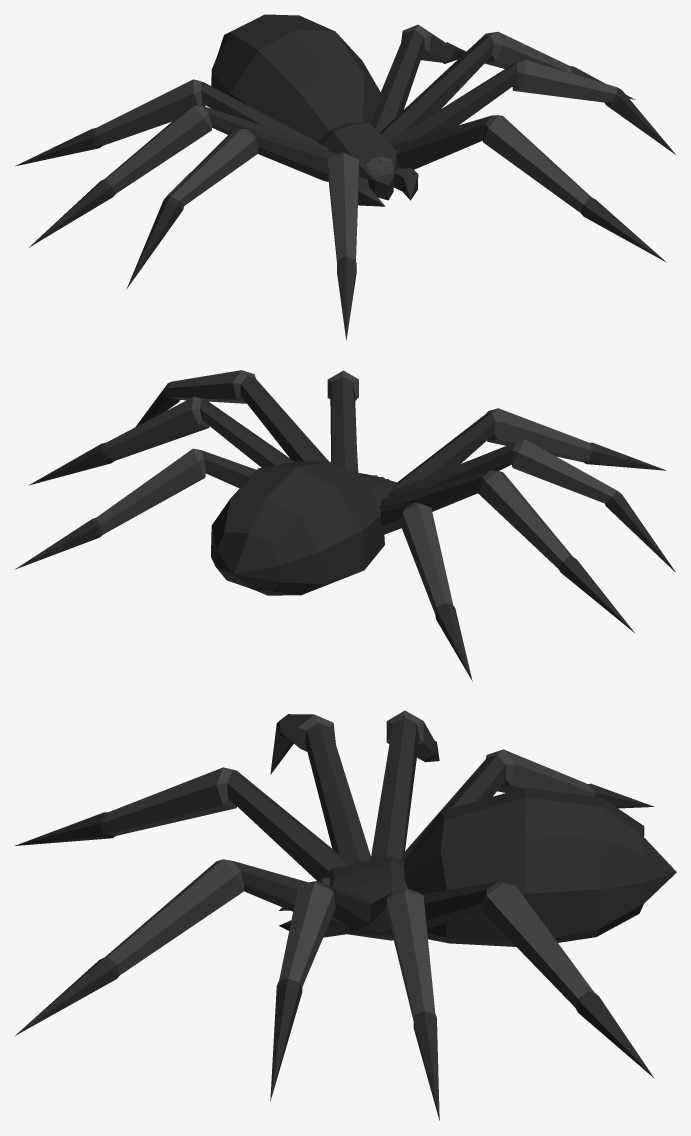
File: spider.glb
3 renders of one model, top to bottom at view 1: azimuth 30°, elevation 25°; view 2: azimuth 150°, elevation 25°; view 3: azimuth 270°, elevation 25°, orthographic. The views are drawn at different scales.
Visible parts, largest first — view 1: spider; view 2: spider; view 3: spider.
Part boxes in pixels (x1,y1,x2,y2): spider: (15,14,675,340); spider: (15,370,675,681); spider: (14,710,676,1120).
Bounding box in the file's own units: 1.04 × 0.1953 × 0.8061.
Materials: 1 (1 with a texture image).
